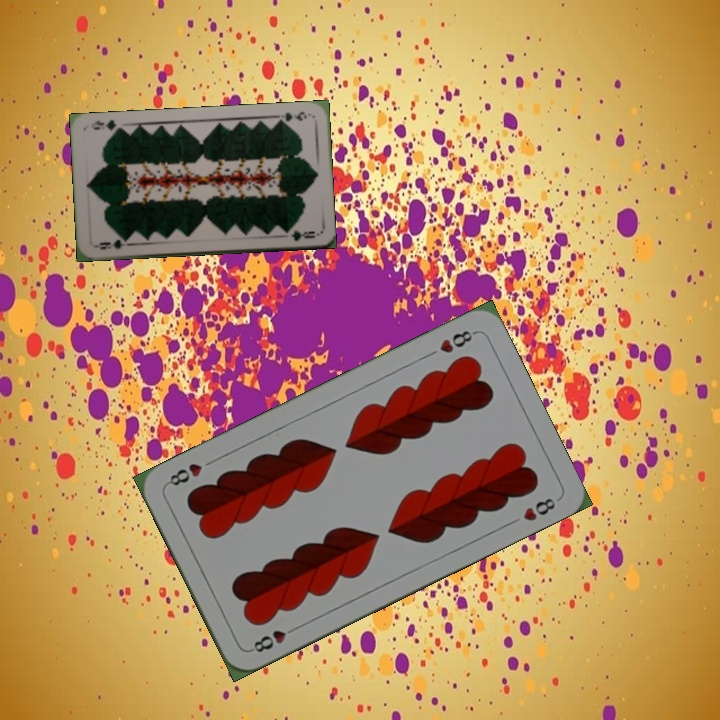G9: (273, 107, 313, 125), (91, 235, 131, 252)
H8: (246, 621, 301, 655), (435, 326, 479, 356)
